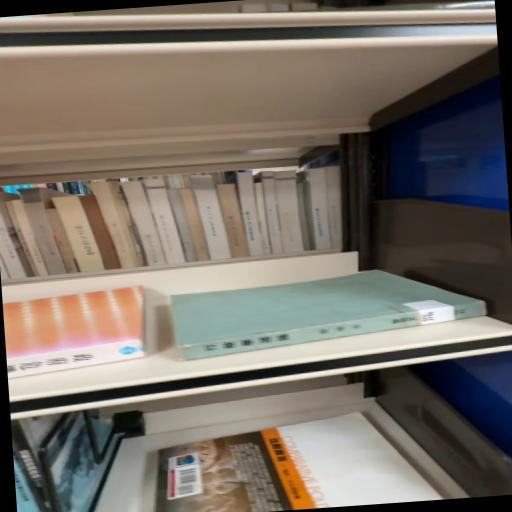flat: (170, 270, 486, 360), (155, 413, 442, 512)
